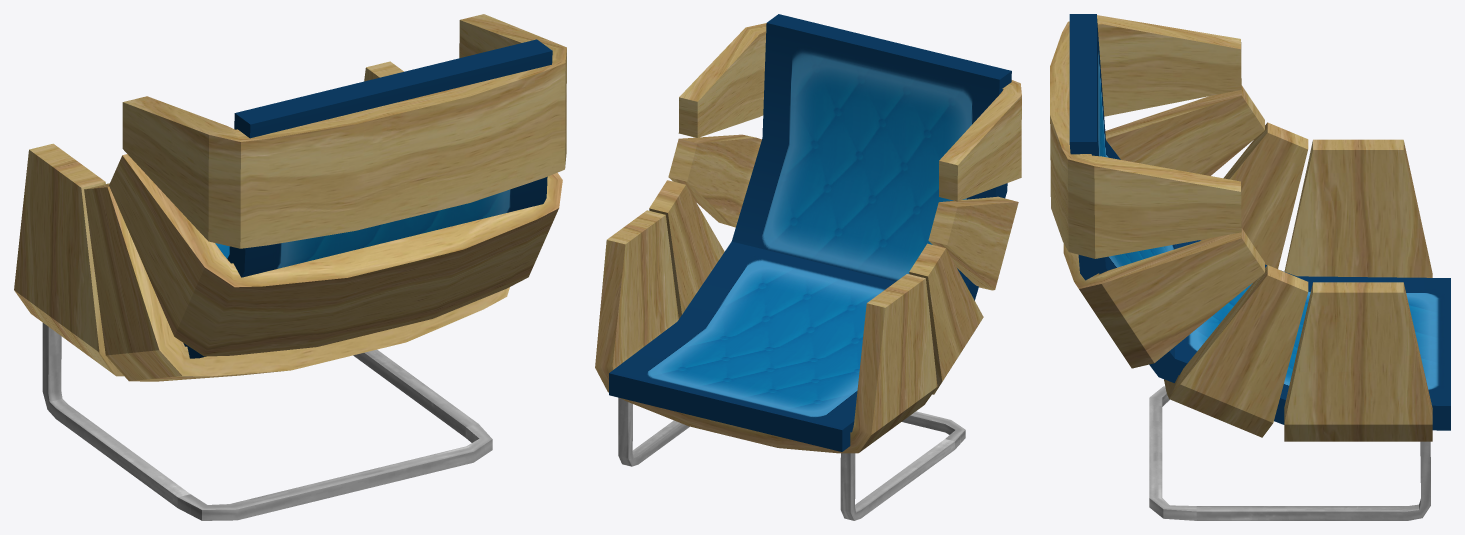
The model's file is ModCoolChair.fbx.
3 renders of one model, left to right at view 1: azimuth 30°, elevation 25°; view 2: azimuth 150°, elevation 25°; view 3: azimuth 270°, elevation 25°, orthographic. The views are drawn at different scales.
Parts seen in each view (by area): view 1: pCube136; view 2: pCube136; view 3: pCube136.
Part boxes in pixels (left/top/right/bottom): pCube136: left=14, top=14, right=566, bottom=520; pCube136: left=595, top=14, right=1021, bottom=520; pCube136: left=1050, top=14, right=1450, bottom=520.
Bounding box in the file's own units: 2.14 × 2.47 × 2.37.
Materials: 1 (1 with a texture image).
